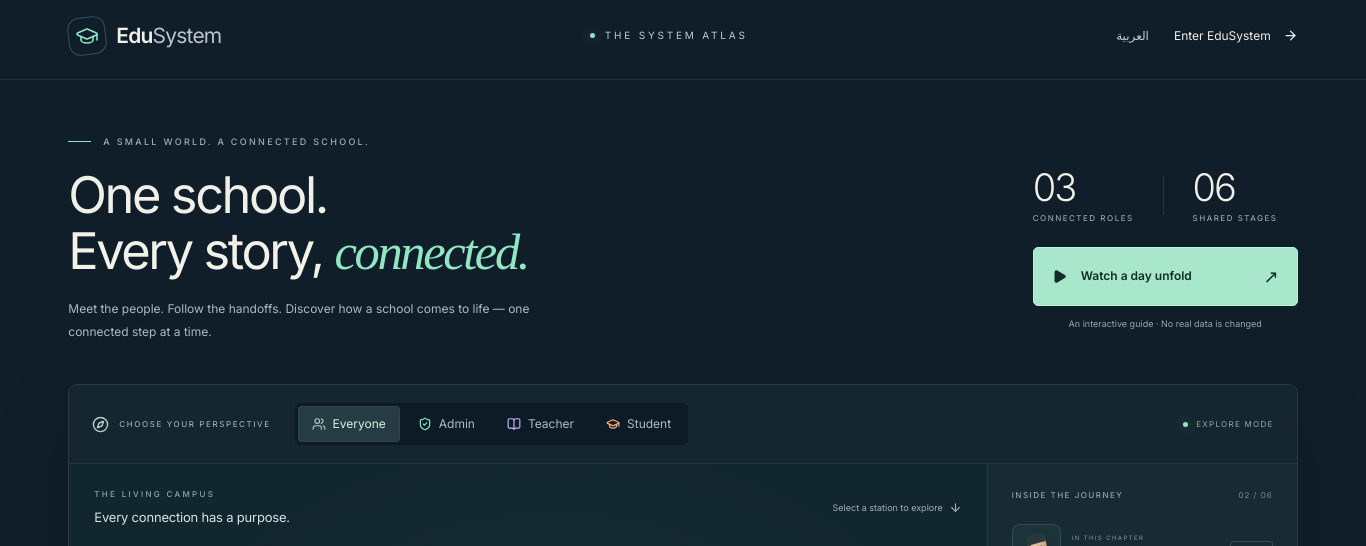
Test: school system journey › starts in manual story mode for reduced-motion visitors
Click the button "Watch a day unfold ↗" at (1165, 276), box [1033,247,1298,306]
Wait 17000 ms
(page scrolled)
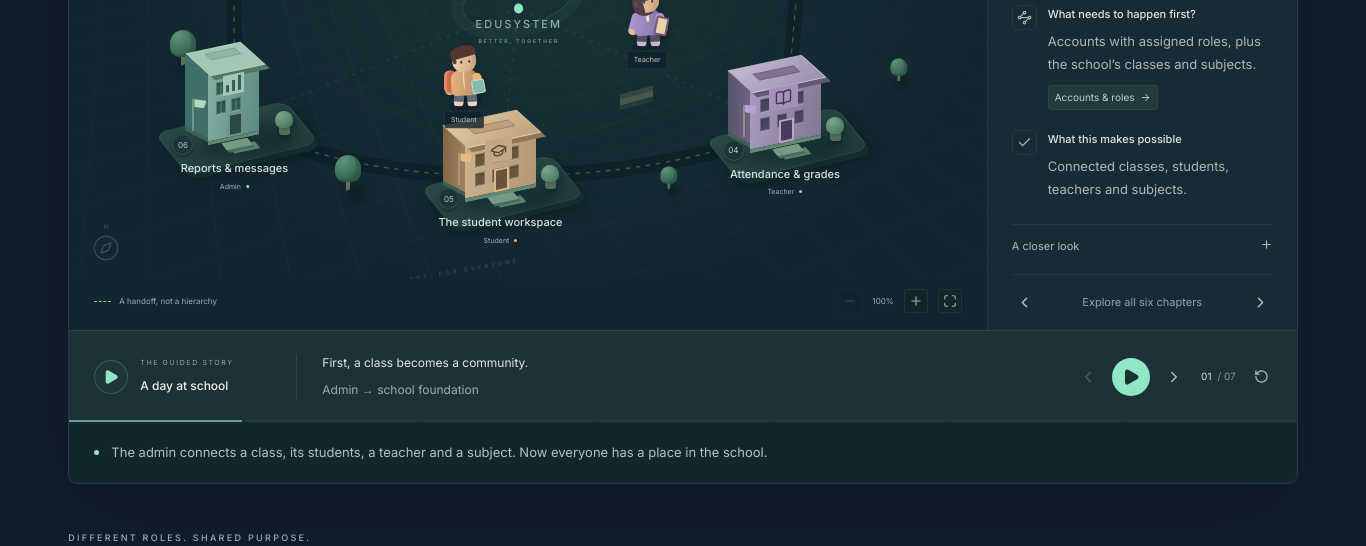
Expected: the button named "Play story" is shown, [1112,358,1150,396]
Now the text "First, a class becomes a community." is shown, box [322,355,528,370]
